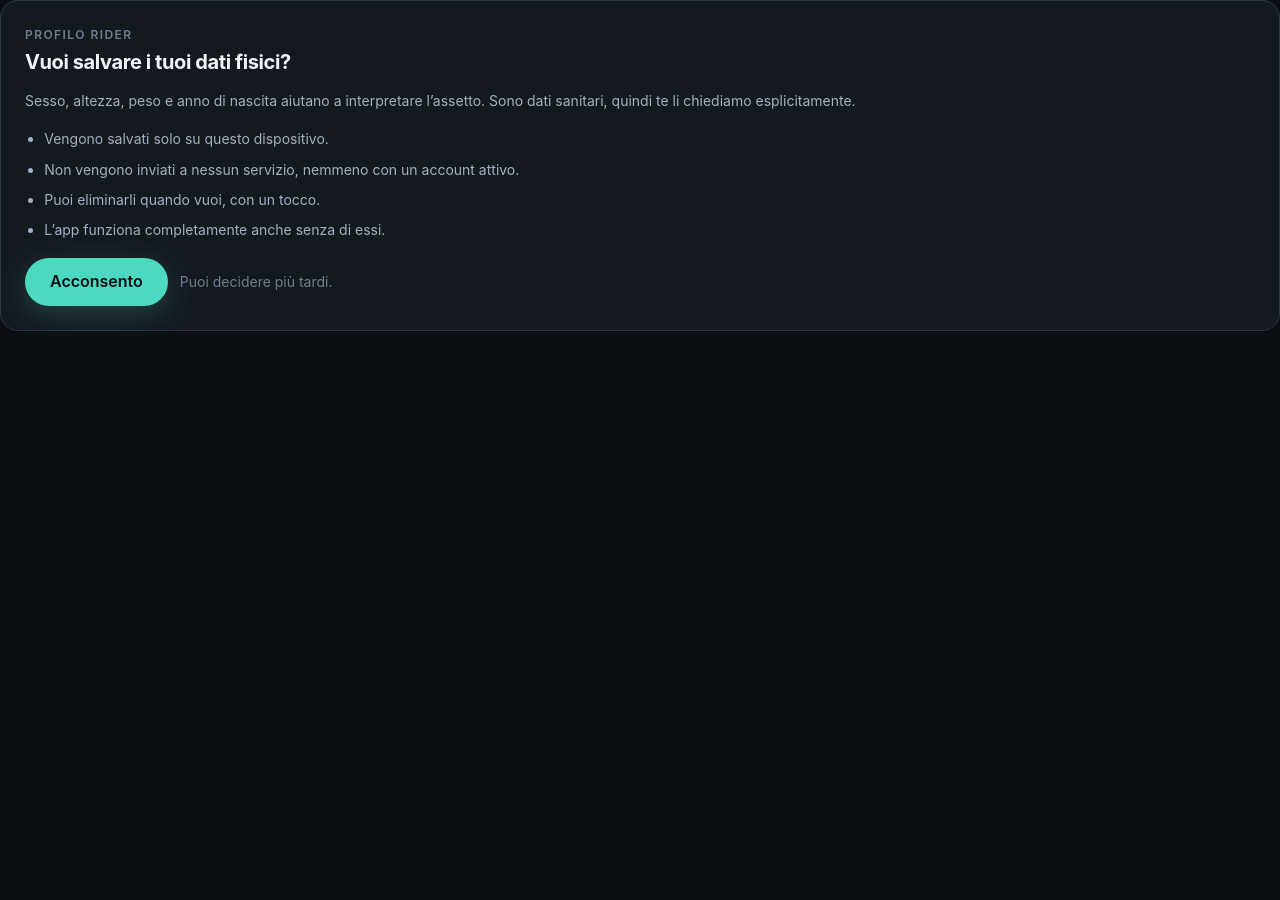
Test: consenso ai dati sanitari › mostra i campi dopo il consenso
This screenshot has width=1280, height=900.
What coordinates should you click on to do the following:
click the button "Acconsento"
I would click on:
 (96, 282)
Its box is [25,258,168,306].
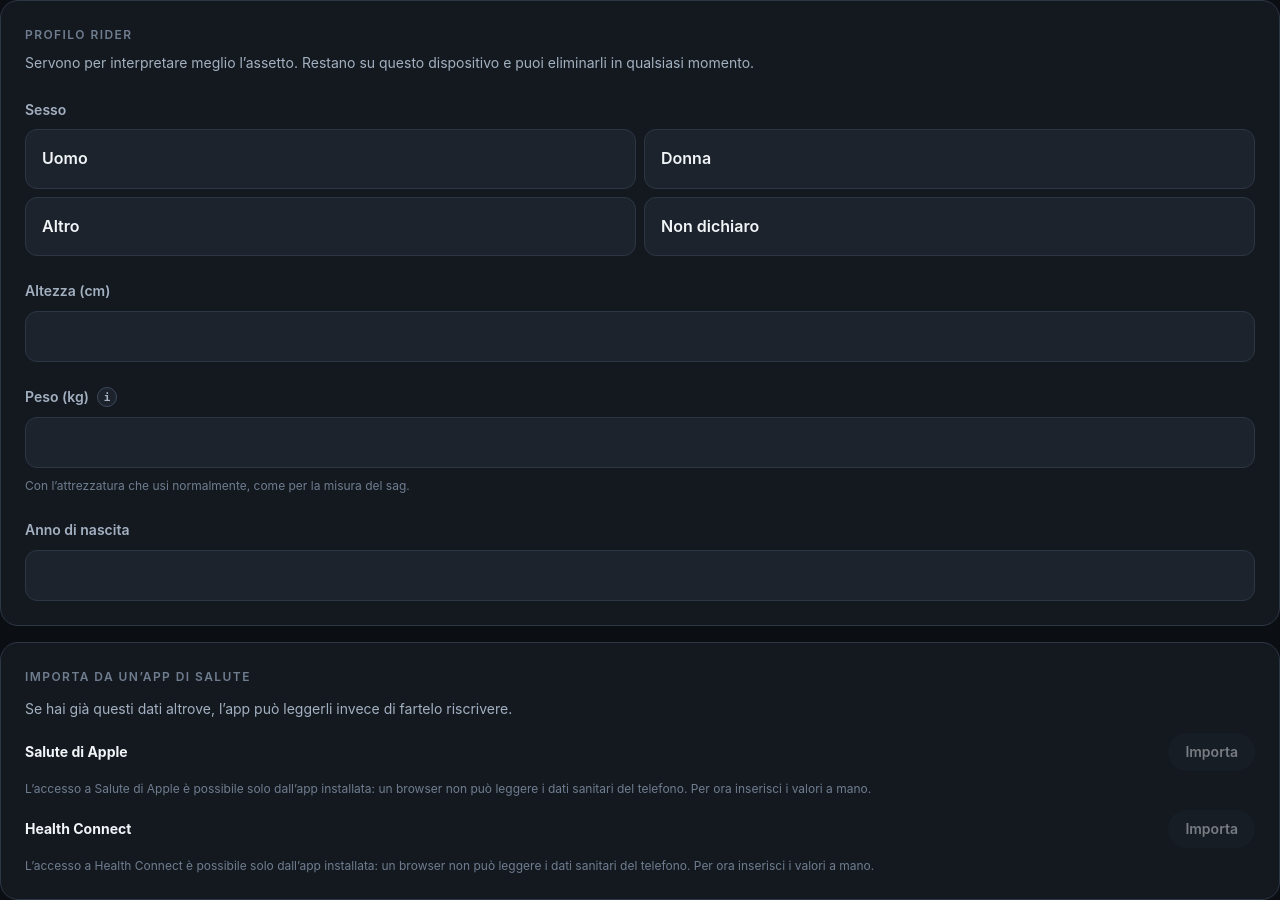
Check: the number field labelled "Altezza (cm)" is shown, box [25,310,1255,362]
Check: the number field labelled "Peso (kg)" is shown, box [25,416,1255,468]
